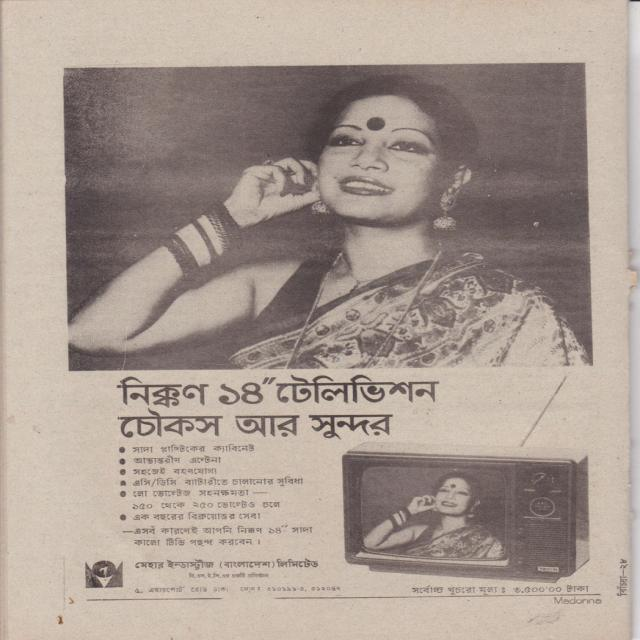advertisement: (62, 63, 602, 600)
page number: (619, 559, 628, 569)
text: (617, 576, 628, 597)
